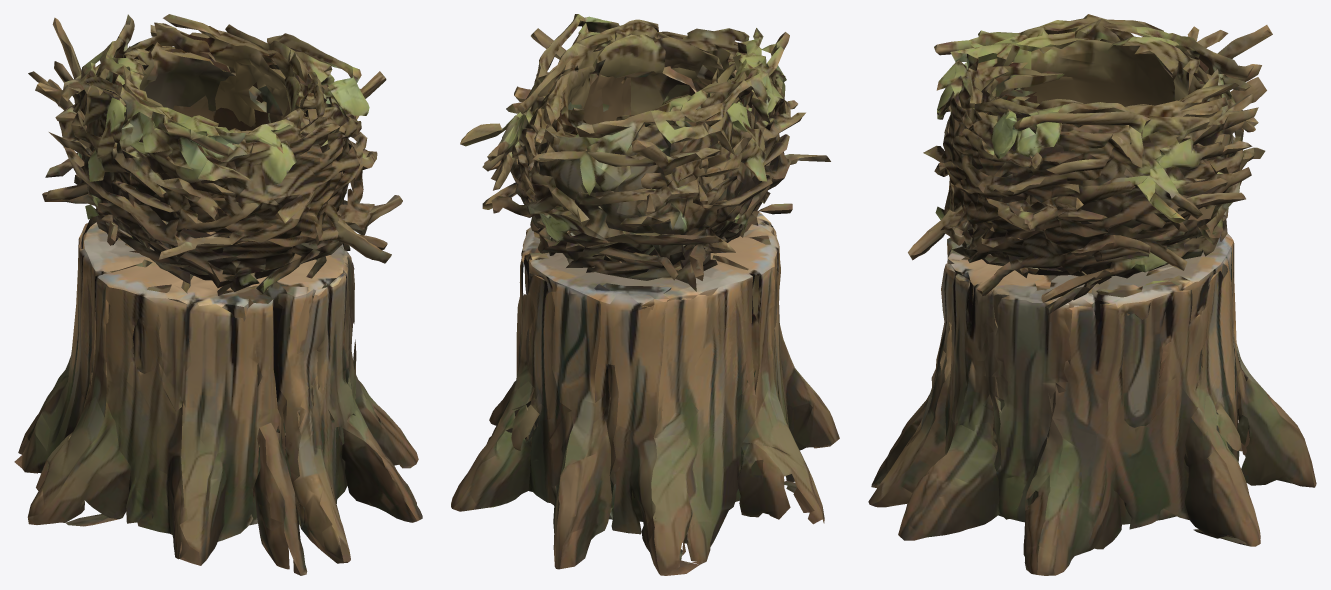
The model's file is den_monkey_nest.glb.
3 views of the same model, side by side, from view 1: azimuth 30°, elevation 25°; view 2: azimuth 150°, elevation 25°; view 3: azimuth 270°, elevation 25° (orthographic). The views are drawn at different scales.
Parts seen in each view (by area): view 1: den_monkey_nest; view 2: den_monkey_nest; view 3: den_monkey_nest.
Boxes of the visible parts, x1,y1,x2,y2 form: den_monkey_nest: (14, 14, 422, 575); den_monkey_nest: (451, 14, 839, 575); den_monkey_nest: (868, 14, 1316, 575).
Size of the model in its own units: 2.18 by 2.5 by 2.32.
1 material, 1 textured.
